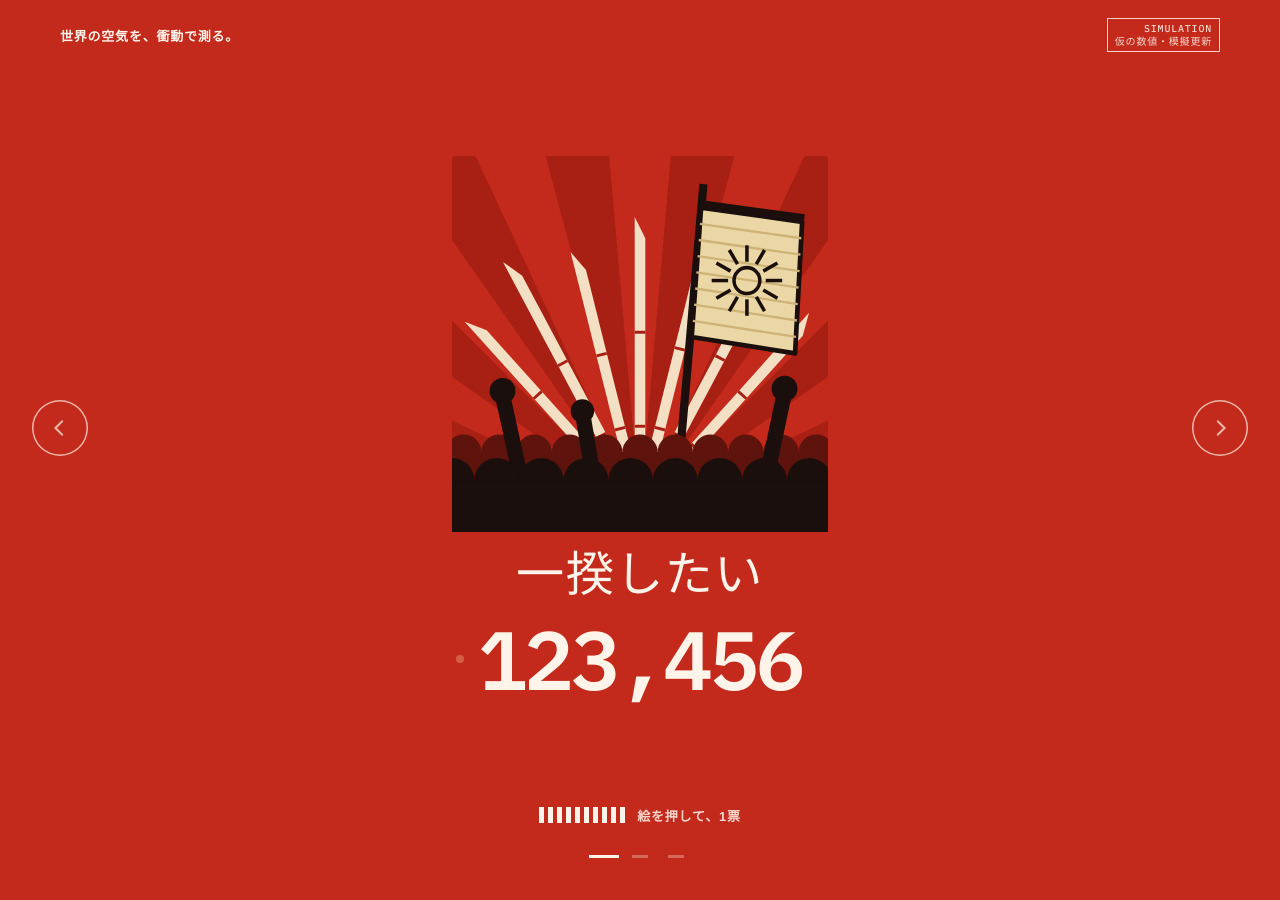
MainScreen › US-D1・US-C2: エンブレムを押すとすぐに +1 され、演出のクラスが付く
Click the button with class "emblem".
click(640, 344)  # box 452,156 -> 828,532
Wait 140 ms
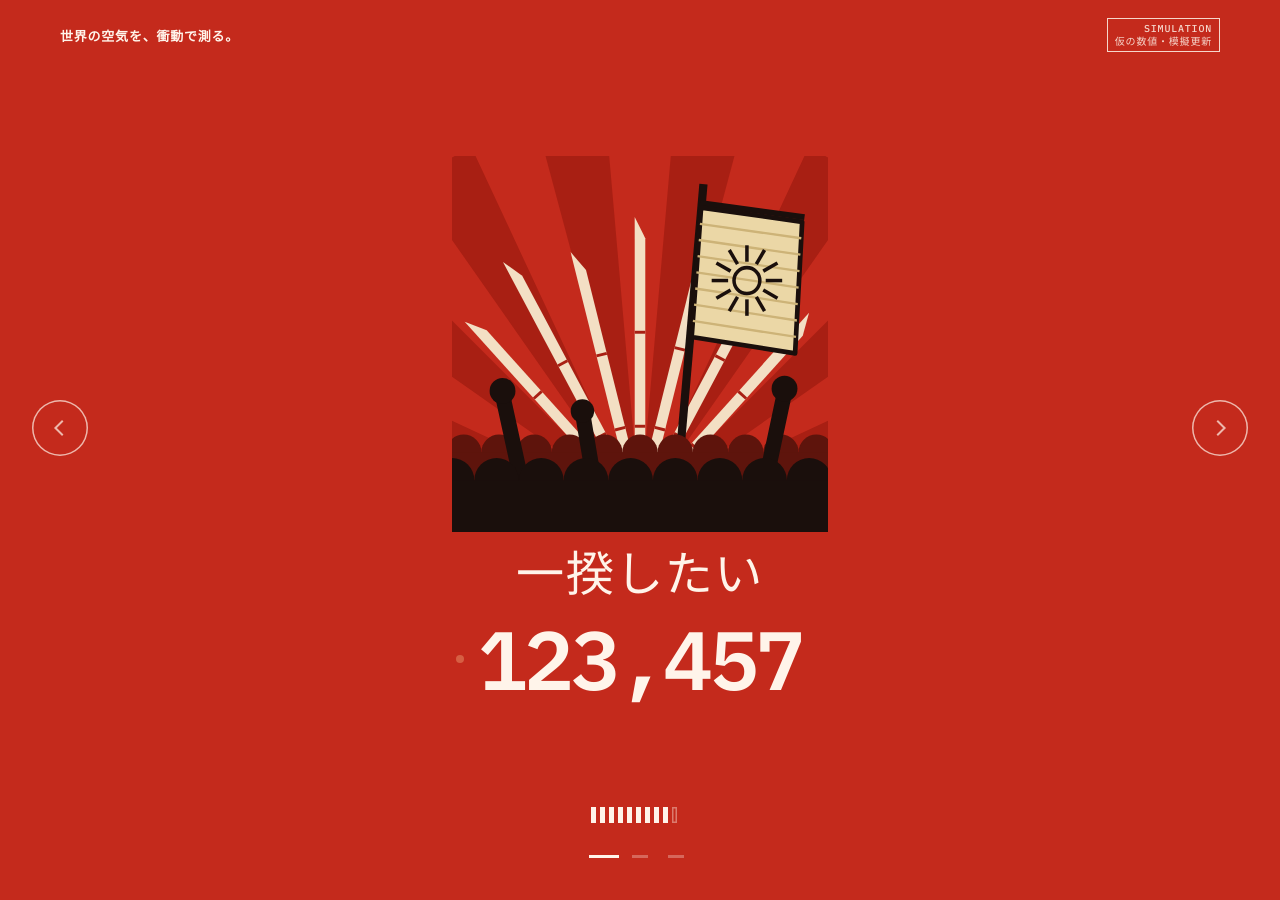
Check: the text with test id "count" reads "123,457", box 478,605 -> 802,713
